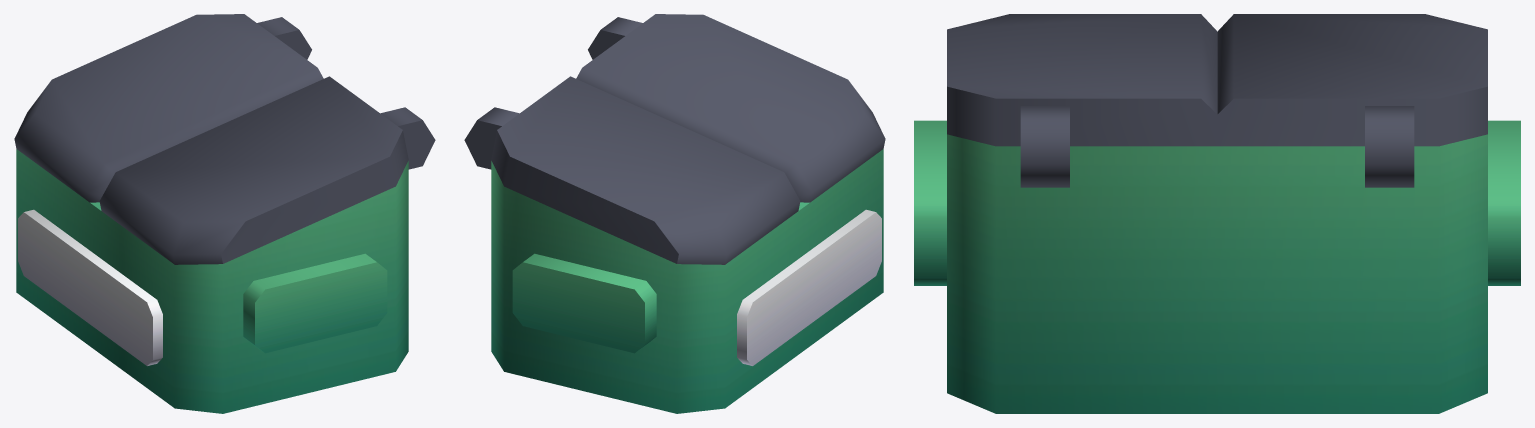
File: dumpster.glb
3 renders of one model, left to right at view 1: azimuth 30°, elevation 25°; view 2: azimuth 150°, elevation 25°; view 3: azimuth 270°, elevation 25°, orthographic. The views are drawn at different scales.
Visible parts, largest first — view 1: dumpster, lid-right, lid-left; view 2: dumpster, lid-left, lid-right; view 3: dumpster, lid-right, lid-left.
Part boxes in pixels (box(x1,y1,x2,y2)): dumpster: box(16, 17, 435, 413); lid-right: box(99, 76, 408, 264); lid-left: box(14, 14, 323, 202); dumpster: box(464, 17, 883, 413); lid-left: box(491, 76, 800, 264); lid-right: box(576, 14, 885, 202); dumpster: box(914, 106, 1520, 413); lid-right: box(947, 14, 1217, 146); lid-left: box(1217, 14, 1487, 146).
Bounding box in the file's own units: 0.275 × 0.2094 × 0.37.
1 material, 1 textured.
